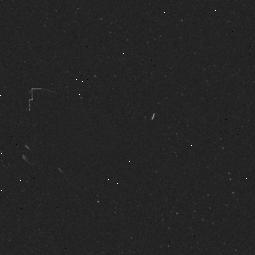proba_3_csc: (17, 77, 160, 187)
